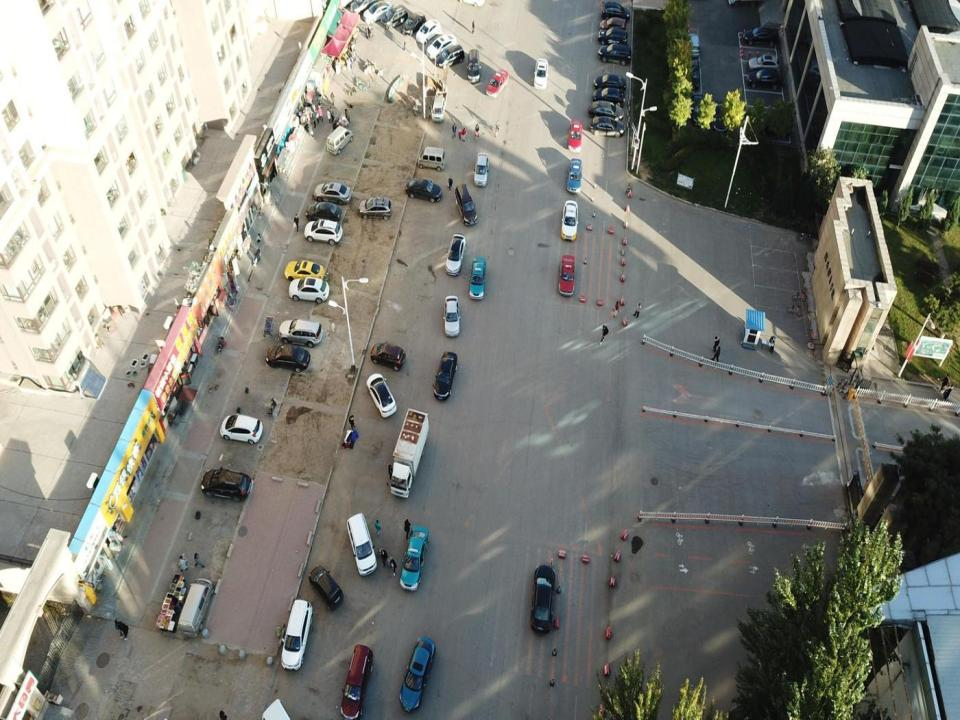car: (398, 636, 435, 714), (282, 598, 311, 670), (346, 512, 377, 576), (399, 527, 429, 593), (530, 563, 557, 634), (200, 470, 251, 502), (310, 564, 343, 608), (219, 413, 262, 444), (279, 317, 322, 347), (266, 344, 312, 372), (367, 374, 396, 418), (433, 351, 456, 401), (369, 341, 405, 370), (290, 276, 330, 302), (405, 179, 443, 206), (444, 233, 466, 279), (304, 219, 344, 244), (313, 182, 354, 206), (454, 184, 479, 223), (285, 260, 325, 282), (358, 196, 392, 221), (560, 200, 580, 242), (742, 26, 780, 48), (746, 68, 782, 90), (425, 33, 455, 59), (302, 203, 345, 221), (558, 254, 576, 296), (596, 43, 632, 64), (445, 295, 462, 339), (588, 117, 626, 136), (470, 256, 486, 300), (486, 70, 510, 99), (364, 0, 392, 24), (566, 158, 584, 195), (437, 44, 464, 68), (588, 102, 622, 121), (591, 89, 625, 108), (418, 18, 440, 47), (600, 1, 630, 22), (711, 99, 729, 134), (531, 58, 549, 92), (747, 54, 781, 72), (382, 3, 407, 27), (599, 26, 626, 48), (402, 11, 424, 37), (594, 74, 625, 92), (567, 120, 584, 152), (690, 91, 705, 127), (474, 152, 490, 185), (597, 18, 626, 35), (687, 58, 700, 92), (467, 50, 480, 83), (687, 33, 700, 58)
truck: (386, 408, 430, 500)
van: (338, 642, 374, 719), (176, 575, 216, 637), (327, 121, 352, 157), (416, 147, 446, 173), (431, 96, 444, 123)
